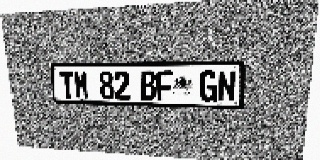2: (114, 71, 130, 100)
8: (99, 71, 115, 100)
B: (140, 71, 156, 101)
F: (156, 71, 173, 101)
G: (200, 70, 218, 102)
M: (73, 71, 89, 99)
N: (217, 70, 236, 102)
T: (60, 71, 75, 99)
